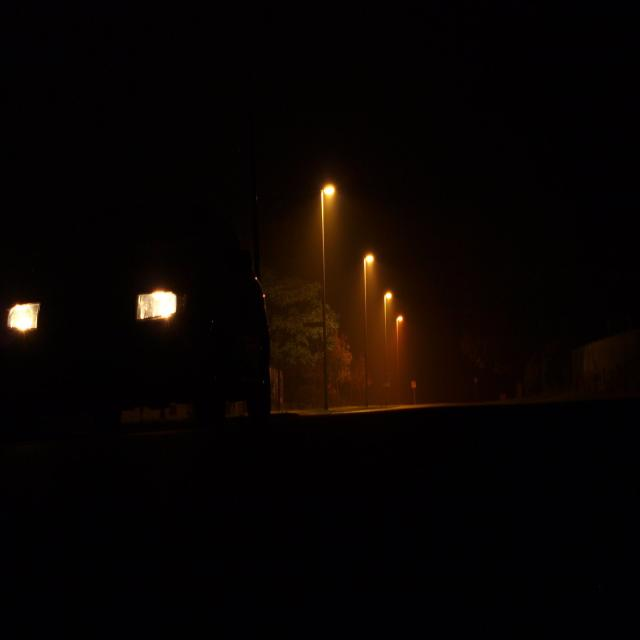Car: (0, 171, 274, 438)
